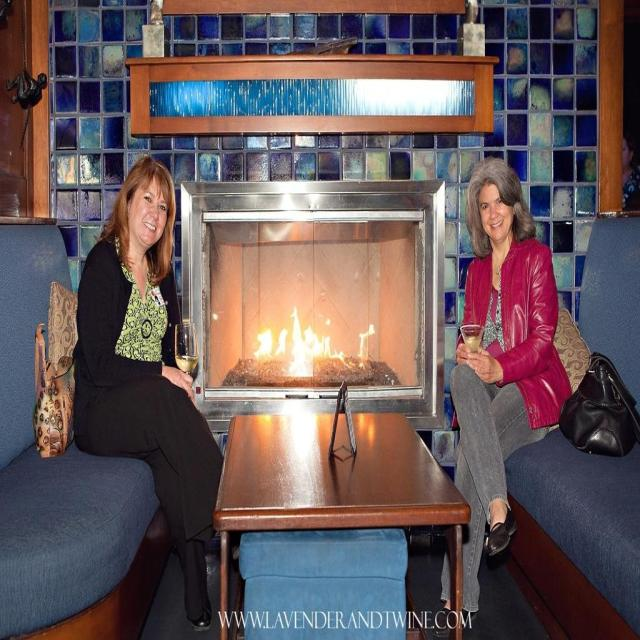Fire: (219, 286, 389, 383)
